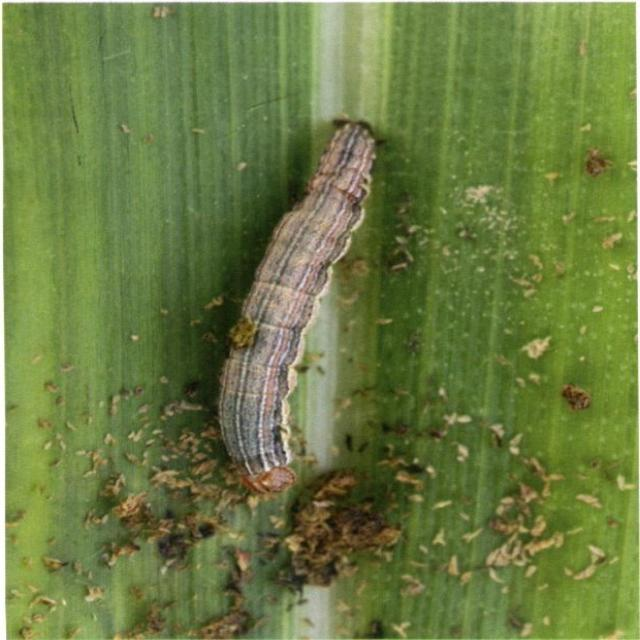army worm: (215, 115, 384, 497)
